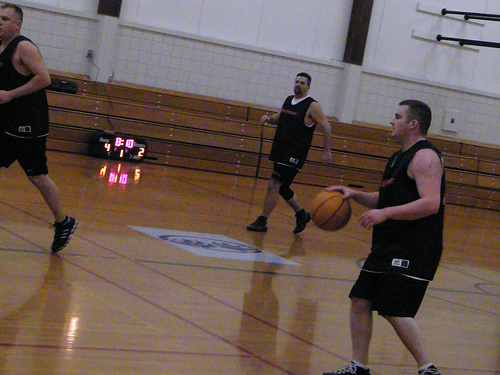basketball: (310, 191, 351, 230)
